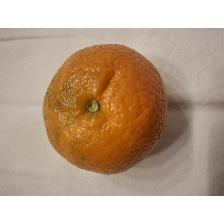Mandarine: (39, 42, 173, 176)
